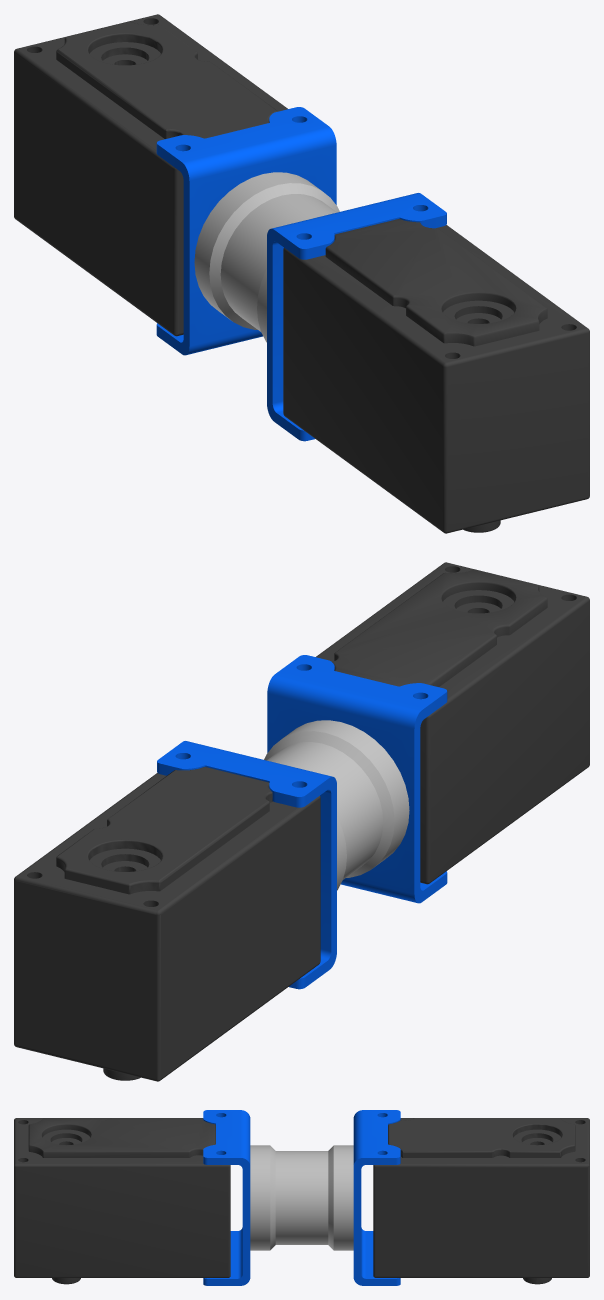
File: xarm-s4.obj
3 views of the same model, one above another, from view 1: azimuth 30°, elevation 25°; view 2: azimuth 150°, elevation 25°; view 3: azimuth 270°, elevation 25° (orthographic). The views are drawn at different scales.
Parts seen in each view (by area): view 1: Servo_3, Servo_4, Servo_4_to_Servo_3, Arm_3_to_4, Servo_3_to_Servo_4; view 2: Servo_4, Servo_3, Servo_3_to_Servo_4, Arm_3_to_4, Servo_4_to_Servo_3; view 3: Servo_3, Servo_4, Arm_3_to_4, Servo_4_to_Servo_3, Servo_3_to_Servo_4.
Part boxes in pixels (box(x1,y1,x2,y2)): Servo_3: box(283, 219, 589, 533); Servo_4: box(14, 14, 287, 336); Servo_4_to_Servo_3: box(156, 107, 336, 355); Arm_3_to_4: box(194, 172, 339, 342); Servo_3_to_Servo_4: box(267, 193, 446, 441); Servo_4: box(14, 767, 320, 1081); Servo_3: box(316, 562, 589, 884); Servo_3_to_Servo_4: box(267, 655, 447, 903); Arm_3_to_4: box(264, 720, 409, 890); Servo_4_to_Servo_3: box(157, 741, 336, 989); Servo_3: box(14, 1118, 230, 1284); Servo_4: box(373, 1118, 589, 1284); Arm_3_to_4: box(250, 1145, 353, 1250); Servo_4_to_Servo_3: box(353, 1110, 400, 1285); Servo_3_to_Servo_4: box(203, 1110, 250, 1285).
Size of the model in its own units: 23 by 32.39 by 117.
